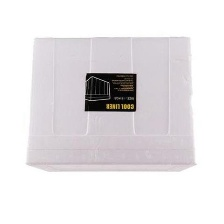foam_box: (23, 32, 202, 176)
